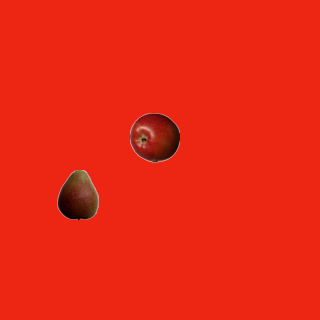Apple Braeburn: (129, 112, 179, 162)
Pear Forelle: (52, 169, 102, 219)
